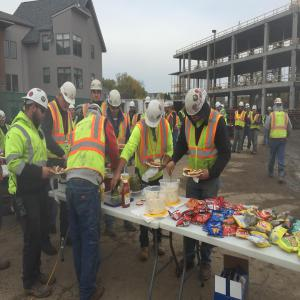none: (183, 104, 187, 113)
white: (25, 88, 49, 124), (186, 88, 207, 123), (60, 84, 77, 110), (147, 102, 162, 130), (109, 91, 123, 115), (92, 79, 103, 102), (1, 111, 7, 128), (275, 99, 283, 110), (70, 105, 76, 118), (164, 103, 171, 114), (130, 101, 136, 112), (145, 98, 151, 109), (216, 103, 223, 112), (239, 103, 244, 112), (268, 107, 273, 115), (253, 106, 258, 113), (170, 104, 175, 111), (247, 104, 251, 112)
